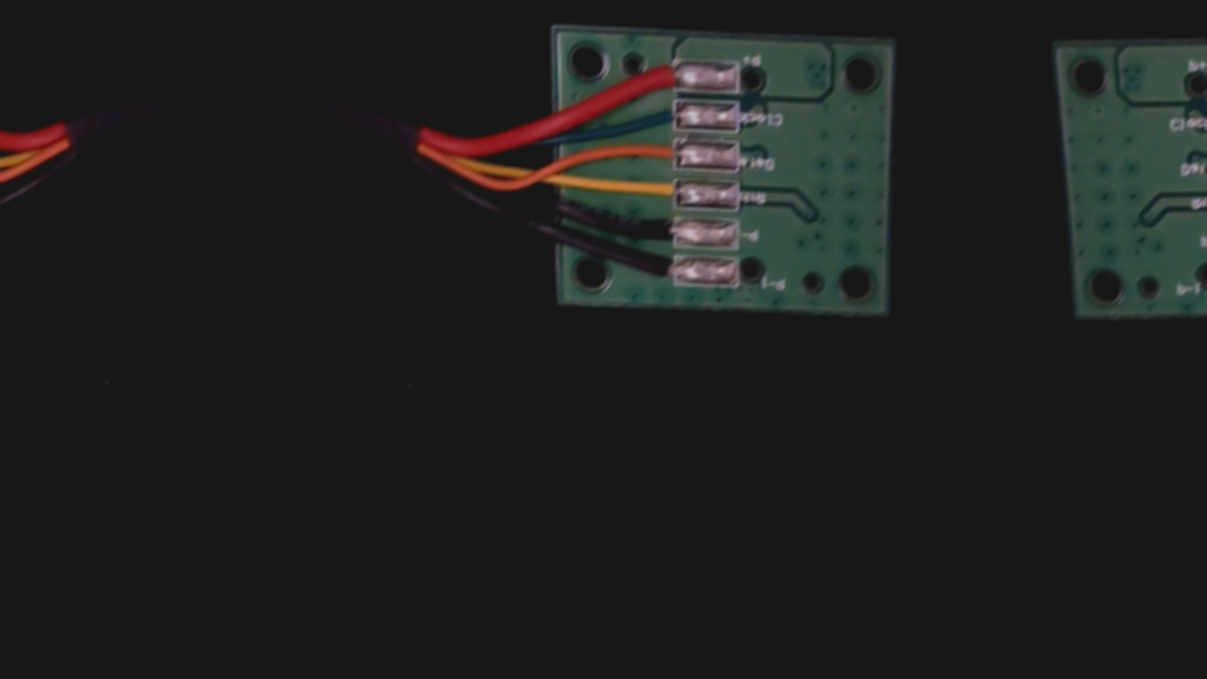Black: (627, 215, 694, 248)
Black1: (622, 251, 695, 287)
Green: (632, 99, 693, 135)
Orange: (628, 137, 692, 166)
Red: (631, 60, 690, 94)
Yellow: (627, 177, 694, 209)
